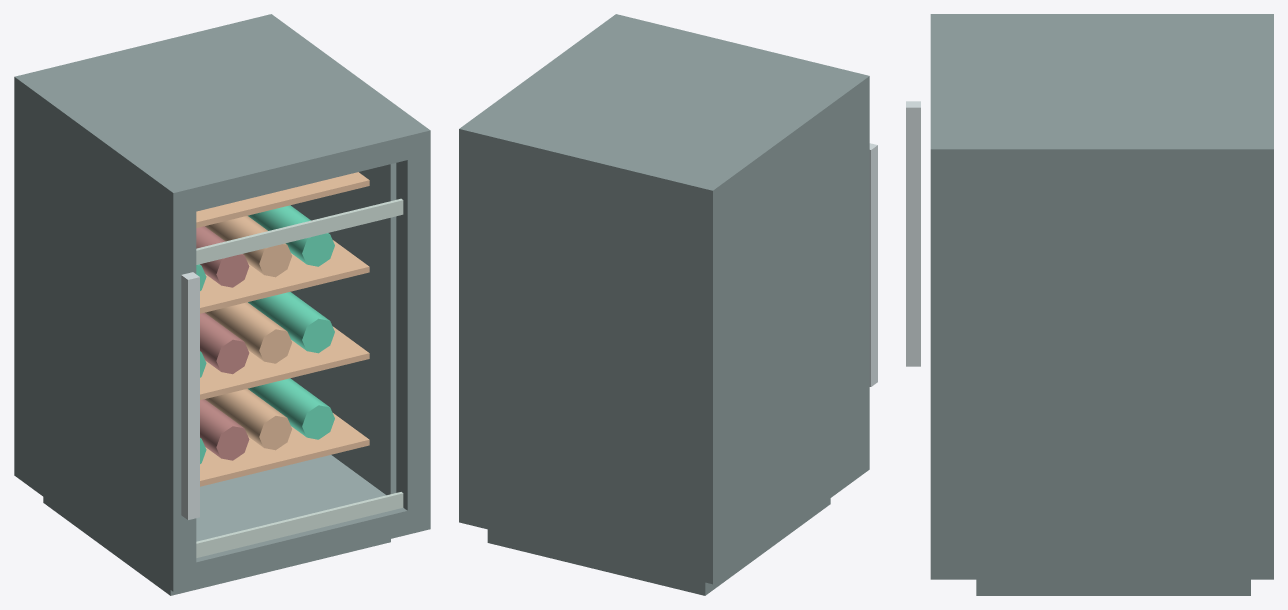
The model's file is wineCooler.glb.
3 views of the same model, side by side, from view 1: azimuth 30°, elevation 25°; view 2: azimuth 150°, elevation 25°; view 3: azimuth 270°, elevation 25° (orthographic). The views are drawn at different scales.
Parts seen in each view (by area): view 1: wineCooler, anim:door; view 2: wineCooler, anim:door; view 3: wineCooler, anim:door.
Part boxes in pixels (x1,y1,x2,y2): wineCooler: [14, 14, 419, 595]; anim:door: [163, 122, 430, 591]; wineCooler: [459, 21, 859, 595]; anim:door: [606, 14, 877, 476]; wineCooler: [953, 14, 1273, 595]; anim:door: [906, 14, 953, 579].
Size of the model in its own units: 0.28 by 0.44 by 0.3215.
